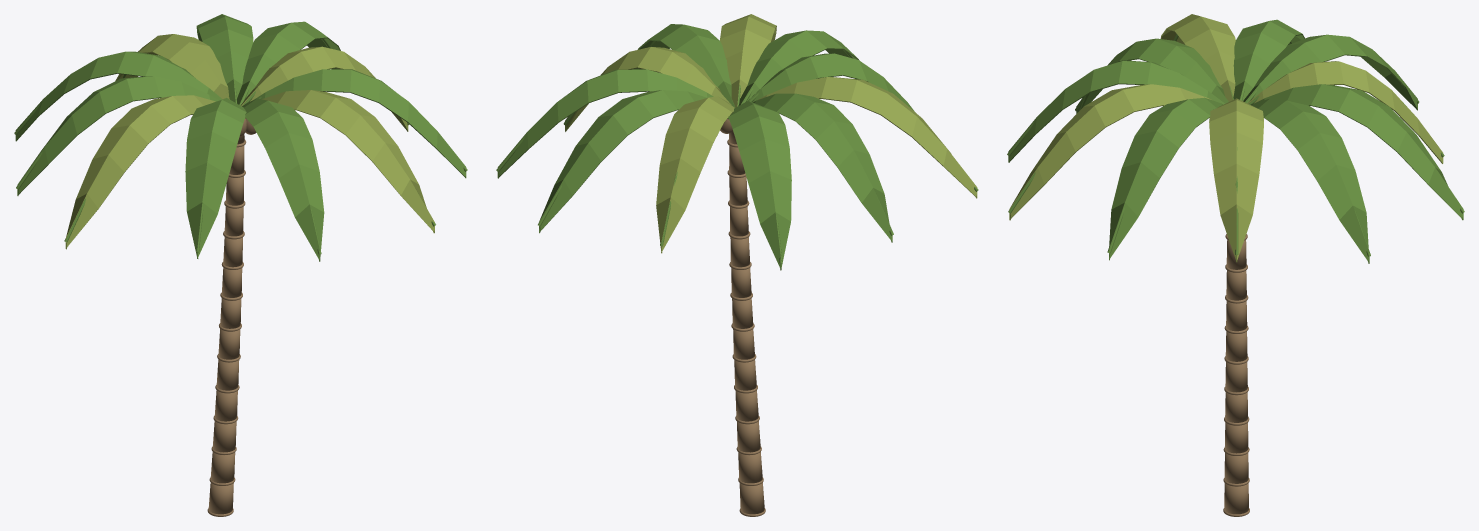
The model's file is palm.glb.
3 views of the same model, side by side, from view 1: azimuth 30°, elevation 25°; view 2: azimuth 150°, elevation 25°; view 3: azimuth 270°, elevation 25° (orthographic). The views are drawn at different scales.
Visible parts, largest first — view 1: Palm_frond.008, Palm_frond.007, Palm_frond.006, Palm_frond.009, Palm_frond.005, Palm_frond.010, Palm_frond.004, Palm_frond.001, Palm_frond.002, Palm_frond.003, Palm_frond, Palm_trunk (+9 smaller); view 2: Palm_frond.004, Palm_frond.003, Palm_frond.005, Palm_frond.002, Palm_frond.006, Palm_frond.001, Palm_frond.009, Palm_frond.008, Palm_frond.007, Palm_frond.010, Palm_frond, Palm_trunk (+8 smaller); view 3: Palm_frond.001, Palm_frond.010, Palm_frond, Palm_frond.002, Palm_frond.009, Palm_frond.008, Palm_frond.004, Palm_frond.003, Palm_frond.005, Palm_frond.006, Palm_frond.007, Palm_trunk (+7 smaller).
Part boxes in pixels (x1,y1,x2,y2): Palm_frond.008: (242, 98, 324, 261); Palm_frond.007: (185, 98, 246, 258); Palm_frond.006: (65, 95, 215, 249); Palm_frond.009: (245, 90, 434, 233); Palm_frond.005: (17, 76, 218, 195); Palm_frond.010: (254, 69, 466, 178); Palm_frond.004: (15, 51, 222, 141); Palm_frond.001: (237, 21, 340, 104); Palm_frond.002: (196, 14, 253, 102); Palm_frond.003: (115, 34, 229, 99); Palm_frond: (240, 46, 408, 131); Palm_trunk: (208, 483, 233, 514); Palm_frond.004: (728, 101, 791, 270); Palm_frond.003: (656, 96, 734, 253); Palm_frond.005: (753, 93, 892, 242); Palm_frond.002: (539, 90, 728, 233); Palm_frond.006: (758, 77, 977, 198); Palm_frond.001: (497, 69, 713, 178); Palm_frond.009: (720, 14, 776, 107); Palm_frond.008: (738, 30, 859, 105); Palm_frond.007: (748, 53, 915, 112); Palm_frond.010: (633, 24, 735, 107); Palm_frond: (565, 47, 731, 131); Palm_trunk: (739, 482, 764, 514); Palm_frond.001: (1251, 98, 1369, 263); Palm_frond.010: (1109, 97, 1222, 260); Palm_frond: (1209, 98, 1263, 262); Palm_frond.002: (1256, 84, 1463, 220); Palm_frond.009: (1009, 84, 1211, 220); Palm_frond.008: (1008, 60, 1224, 162); Palm_frond.004: (1243, 34, 1417, 110); Palm_frond.003: (1247, 61, 1443, 163); Palm_frond.005: (1233, 19, 1304, 100); Palm_frond.006: (1160, 14, 1235, 101); Palm_frond.007: (1076, 38, 1228, 113); Palm_trunk: (1224, 483, 1248, 514).
Bounding box in the file's own units: 7.25 × 7.97 × 7.32.
